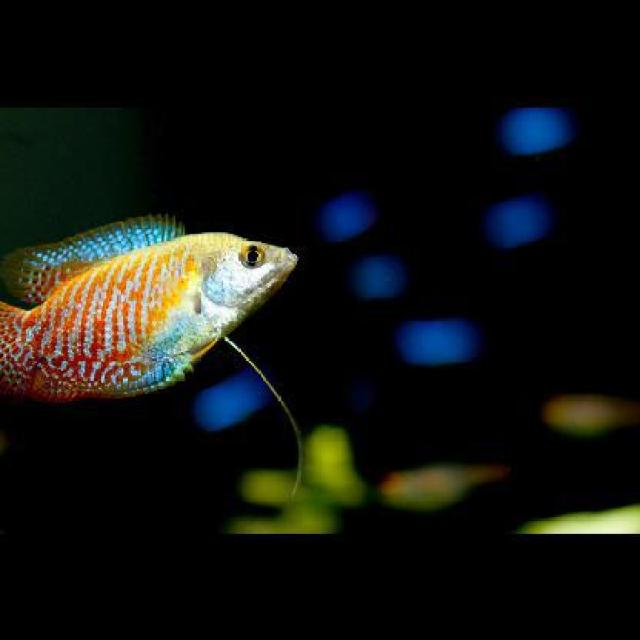Gourami: (0, 206, 297, 403)
